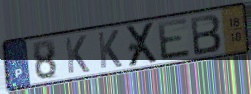8: (31, 39, 59, 81)
B: (188, 12, 223, 57)
E: (155, 16, 193, 62)
K: (95, 28, 124, 70), (63, 34, 91, 76)
X: (125, 20, 160, 69)
